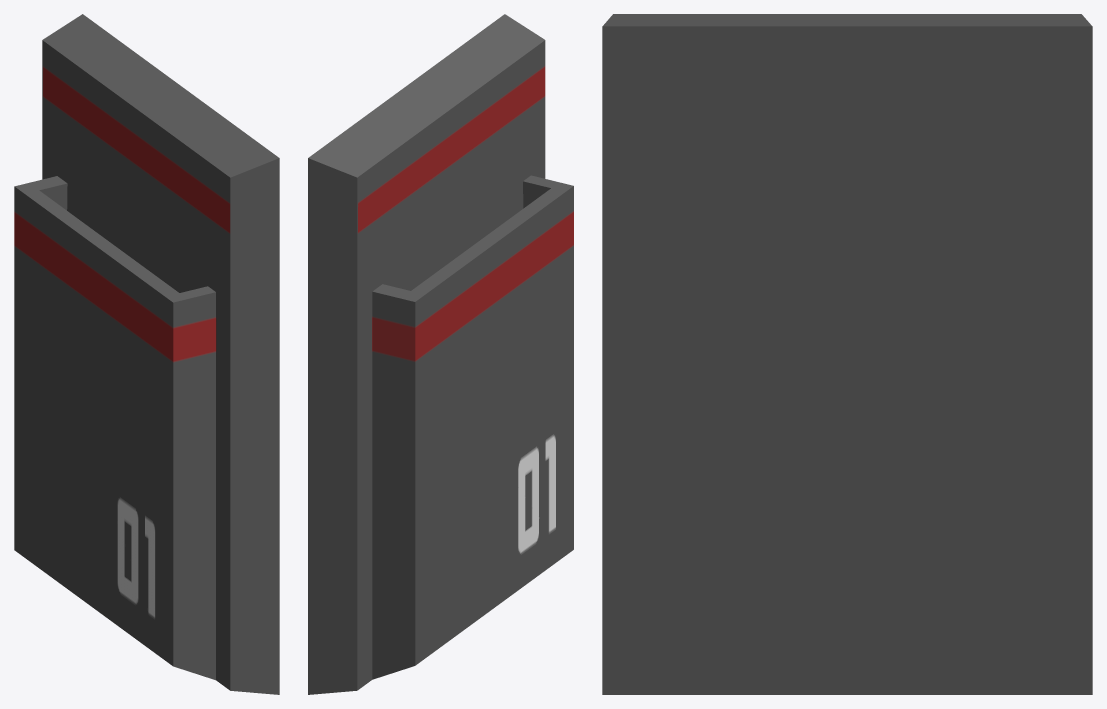
The model's file is id card.fbx.
3 views of the same model, side by side, from view 1: azimuth 30°, elevation 25°; view 2: azimuth 150°, elevation 25°; view 3: azimuth 270°, elevation 25° (orthographic). The views are drawn at different scales.
Visible parts, largest first — view 1: Cube; view 2: Cube; view 3: Cube.
Part boxes in pixels (<box>): Cube: <box>14,14,279,694</box>; Cube: <box>308,14,573,694</box>; Cube: <box>602,14,1092,694</box>.
Size of the model in its own units: 35.77 by 209 by 139.
Materials: 1 (1 with a texture image).
